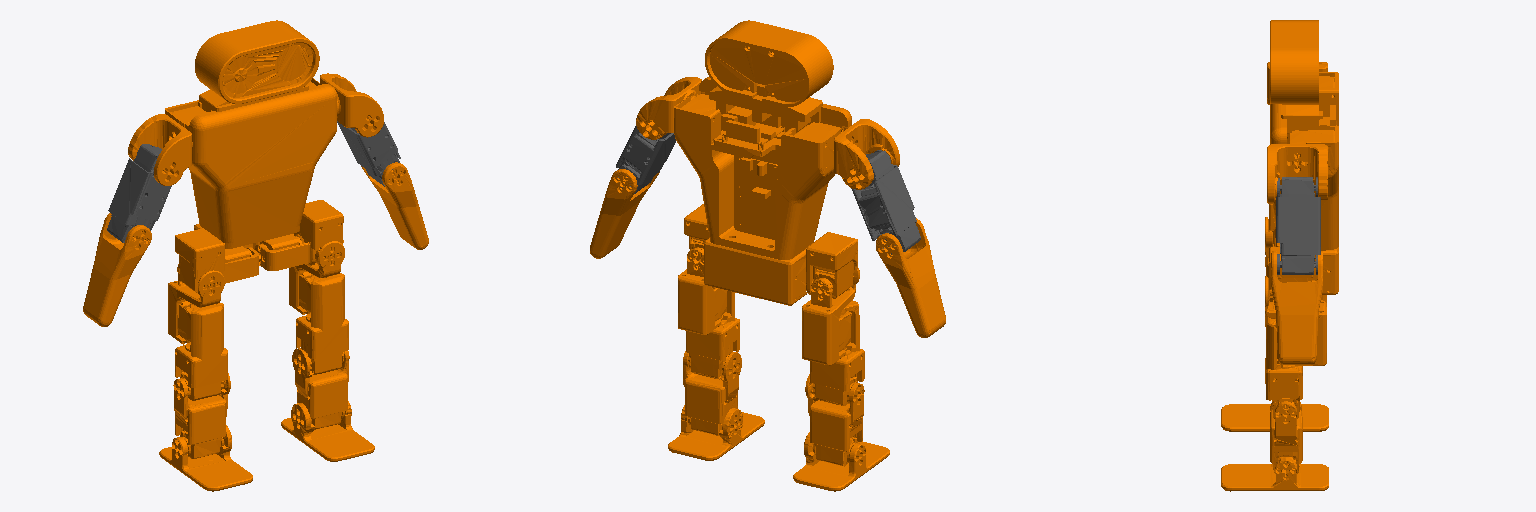
The robot description file, URDF, robot "opus":
<robot name="opus">
  <link name="base">
    <inertial>
      <origin rpy="0 0 0" xyz="0 0 0" />
      <mass value="0.001" />
      <inertia ixx="0.0001" ixy="0" ixz="0" iyy="0.0001" iyz="0" izz="0.0001" />
    </inertial>
  </link>
  <joint name="floating_base" type="fixed">
    <origin rpy="0 0 0" xyz="0 0 0" />
    <parent link="base" />
    <child link="Torso" />
  </joint>
  <link name="Torso">
    <visual>
      <origin xyz="0 0 0" rpy="0 0 0" />
      <geometry>
        <mesh filename="meshes/Torso.stl" />
      </geometry>
      <material name="Torso_material">
        <color rgba="0.97254902 0.52941176 0.0039215686 1" />
      </material>
    </visual>
    <collision>
      <origin xyz="0 0 0" rpy="0 0 0" />
      <geometry>
        <mesh filename="meshes/Torso.stl" />
      </geometry>
    </collision>
    <inertial>
      <mass value="1.5697539312" />
      <inertia ixx="0.0056060930975062925" iyy="0.0073310764831877725" izz="0.002555258648683461" ixy="5.455941982626269e-06" ixz="-8.678303814394845e-05" iyz="0.00034633637897867406" />
      <origin xyz="0.0006379977765356807 0.0037125891477163145 -0.0018039549717621631" rpy="0 0 0" />
    </inertial>
  </link>
  <joint name="right_shoulder_pitch" type="fixed">
    <origin xyz="-0.07813646375169968 -0.0003355559182753147 0.04305328991827533" rpy="1.5707963 2.220446049250313e-16 1.5707963" />
    <parent link="Torso" />
    <child link="shoulder_yaw_right" />
    <limit effort="1" velocity="20" lower="-1.5707963" upper="1.5707963" />
    <axis xyz="0 0 1" />
  </joint>
  <link name="shoulder_yaw_right">
    <visual>
      <origin xyz="0 0 0" rpy="0 0 0" />
      <geometry>
        <mesh filename="meshes/shoulder_yaw_right.stl" />
      </geometry>
      <material name="shoulder_yaw_right_material">
        <color rgba="0.97254902 0.52941176 0.0039215686 1" />
      </material>
    </visual>
    <collision>
      <origin xyz="0 0 0" rpy="0 0 0" />
      <geometry>
        <mesh filename="meshes/shoulder_yaw_right.stl" />
      </geometry>
    </collision>
    <inertial>
      <mass value="0.040362728" />
      <inertia ixx="1.0226821e-05" iyy="2.2303144e-05" izz="2.1988958e-05" ixy="0" ixz="0" iyz="-1.8359103e-06" />
      <origin xyz="-0.00037600968 -0.0036566476 -0.017432914" rpy="0 0 0" />
    </inertial>
  </link>
  <joint name="left_shoulder_pitch" type="fixed">
    <origin xyz="0.0781635406483003 -0.0003355560817246521 0.04305329008172466" rpy="-1.5707963071795865 0.0 1.5707963000000003" />
    <parent link="Torso" />
    <child link="shoulder_yaw_left" />
    <limit effort="1" velocity="20" lower="-1.5707963" upper="1.5707963" />
    <axis xyz="0 0 1" />
  </joint>
  <link name="shoulder_yaw_left">
    <visual>
      <origin xyz="0 0 0" rpy="0 0 0" />
      <geometry>
        <mesh filename="meshes/shoulder_yaw_left.stl" />
      </geometry>
      <material name="shoulder_yaw_left_material">
        <color rgba="0.97254902 0.52941176 0.0039215686 1" />
      </material>
    </visual>
    <collision>
      <origin xyz="0 0 0" rpy="0 0 0" />
      <geometry>
        <mesh filename="meshes/shoulder_yaw_left.stl" />
      </geometry>
    </collision>
    <inertial>
      <mass value="0.040363129" />
      <inertia ixx="1.0227007e-05" iyy="2.2303258e-05" izz="2.1989069e-05" ixy="0" ixz="0" iyz="1.8360421e-06" />
      <origin xyz="-0.00037590896 0.0036565205 -0.017432695" rpy="0 0 0" />
    </inertial>
  </link>
  <joint name="right_shoulder_yaw" type="fixed">
    <origin xyz="-0.018825 -0.01629921 -0.03" rpy="3.1415927 -1.5707963 0" />
    <parent link="shoulder_yaw_right" />
    <child link="right_shoulder_yaw_motor" />
    <limit effort="1" velocity="20" lower="-1.5707963" upper="1.5707963" />
    <axis xyz="0 0 -1" />
  </joint>
  <link name="right_shoulder_yaw_motor">
    <visual>
      <origin xyz="0 0 0" rpy="0 0 0" />
      <geometry>
        <mesh filename="meshes/right_shoulder_yaw_motor.stl" />
      </geometry>
      <material name="right_shoulder_yaw_motor_material">
        <color rgba="0.4 0.4 0.4 1" />
      </material>
    </visual>
    <collision>
      <origin xyz="0 0 0" rpy="0 0 0" />
      <geometry>
        <mesh filename="meshes/right_shoulder_yaw_motor.stl" />
      </geometry>
    </collision>
    <inertial>
      <mass value="0.17145988099999998" />
      <inertia ixx="0.00013262325307405754" iyy="6.0724117002077606e-05" izz="0.00013875614802904093" ixy="4.288149187392555e-05" ixz="1.8301480028463223e-07" iyz="-3.923791483229383e-07" />
      <origin xyz="-0.014954779548987598 0.03207058001285851 0.01810151127113155" rpy="0 0 0" />
    </inertial>
  </link>
  <joint name="right_hip_pitch" type="revolute">
    <origin xyz="-0.04563646320240432 -0.00033555485567163604 -0.09694671547403086" rpy="-1.570796353589792 -4.6410206566704915e-08 1.5707963000000003" />
    <parent link="Torso" />
    <child link="hip_yaw_right" />
    <limit effort="1" velocity="20" lower="-1.5707963" upper="1.5707963" />
    <axis xyz="0 0 -1" />
  </joint>
  <link name="hip_yaw_right">
    <visual>
      <origin xyz="0 0 0" rpy="0 0 0" />
      <geometry>
        <mesh filename="meshes/hip_yaw_right.stl" />
      </geometry>
      <material name="hip_yaw_right_material">
        <color rgba="0.97254902 0.52941176 0.0039215686 1" />
      </material>
    </visual>
    <collision>
      <origin xyz="0 0 0" rpy="0 0 0" />
      <geometry>
        <mesh filename="meshes/hip_yaw_right.stl" />
      </geometry>
    </collision>
    <inertial>
      <mass value="0.10319577099999999" />
      <inertia ixx="4.318575205232385e-05" iyy="3.6230883570948907e-05" izz="3.840805007327843e-05" ixy="-2.9128945888629886e-08" ixz="-6.96211329136451e-08" iyz="3.2487836840400852e-06" />
      <origin xyz="-0.007775213144040673 -0.010188892005385952 0.015272495649744542" rpy="0 0 0" />
    </inertial>
  </link>
  <joint name="left_hip_pitch" type="revolute">
    <origin xyz="0.04566353964830031 -0.0003355550191209561 -0.09694671547403086" rpy="1.5707963535897942 -4.6410206566704915e-08 1.5707963000000003" />
    <parent link="Torso" />
    <child link="hip_yaw_left" />
    <limit effort="1" velocity="20" lower="-1.5707963" upper="1.5707963" />
    <axis xyz="0 0 -1" />
  </joint>
  <link name="hip_yaw_left">
    <visual>
      <origin xyz="0 0 0" rpy="0 0 0" />
      <geometry>
        <mesh filename="meshes/hip_yaw_left.stl" />
      </geometry>
      <material name="hip_yaw_left_material">
        <color rgba="0.97254902 0.52941176 0.0039215686 1" />
      </material>
    </visual>
    <collision>
      <origin xyz="0 0 0" rpy="0 0 0" />
      <geometry>
        <mesh filename="meshes/hip_yaw_left.stl" />
      </geometry>
    </collision>
    <inertial>
      <mass value="0.103201904" />
      <inertia ixx="4.31868121602293e-05" iyy="3.623346153388101e-05" izz="3.8409711336322e-05" ixy="2.9558133603560806e-08" ixz="-7.066797363081703e-08" iyz="-3.2490435867892277e-06" />
      <origin xyz="-0.007776157110492239 0.010188687432665504 0.015271760814946028" rpy="0 0 0" />
    </inertial>
  </link>
  <joint name="left_shoulder_yaw" type="fixed">
    <origin xyz="-0.018825 0.01629921 -0.03" rpy="3.1415927 1.5707963 0" />
    <parent link="shoulder_yaw_left" />
    <child link="left_shoulder_yaw_motor" />
    <limit effort="1" velocity="20" lower="-1.5707963" upper="1.5707963" />
    <axis xyz="0 0 1" />
  </joint>
  <link name="left_shoulder_yaw_motor">
    <visual>
      <origin xyz="0 0 0" rpy="0 0 0" />
      <geometry>
        <mesh filename="meshes/left_shoulder_yaw_motor.stl" />
      </geometry>
      <material name="left_shoulder_yaw_motor_material">
        <color rgba="0.4 0.4 0.4 1" />
      </material>
    </visual>
    <collision>
      <origin xyz="0 0 0" rpy="0 0 0" />
      <geometry>
        <mesh filename="meshes/left_shoulder_yaw_motor.stl" />
      </geometry>
    </collision>
    <inertial>
      <mass value="0.171459652" />
      <inertia ixx="0.00013262990226591847" iyy="6.071731649741009e-05" izz="0.0001387561460545798" ixy="4.2373954399027645e-05" ixz="1.8300960471168456e-07" iyz="-3.9237987690711426e-07" />
      <origin xyz="0.01495475586438801 -0.03207058301892832 -0.018101540546377845" rpy="0 0 0" />
    </inertial>
  </link>
  <joint name="right_hip_yaw" type="revolute">
    <origin xyz="-0.02550000162875169 0.0025000011415515153 0.019359999918275368" rpy="9.282041333256968e-08 1.5707963000000005 0.0" />
    <parent link="hip_yaw_right" />
    <child link="hip_roll_right" />
    <limit effort="1" velocity="20" lower="-0.087266463" upper="1.5707963" />
    <axis xyz="0 0 1" />
  </joint>
  <link name="hip_roll_right">
    <visual>
      <origin xyz="0 0 0" rpy="0 0 0" />
      <geometry>
        <mesh filename="meshes/hip_roll_right.stl" />
      </geometry>
      <material name="hip_roll_right_material">
        <color rgba="0.97254902 0.52941176 0.0039215686 1" />
      </material>
    </visual>
    <collision>
      <origin xyz="0 0 0" rpy="0 0 0" />
      <geometry>
        <mesh filename="meshes/hip_roll_right.stl" />
      </geometry>
    </collision>
    <inertial>
      <mass value="0.111293388" />
      <inertia ixx="6.57187282381467e-05" iyy="3.611810901444388e-05" izz="4.5395675003437e-05" ixy="8.212582995854536e-08" ixz="-2.2471146072130633e-08" iyz="-3.4518887360620174e-06" />
      <origin xyz="5.2211227247596255e-05 0.04271834544407224 0.027962543113983985" rpy="0 0 0" />
    </inertial>
  </link>
  <joint name="left_hip_yaw" type="revolute">
    <origin xyz="-0.02550000297464769 -0.0025000010000000017 0.01936000008172467" rpy="-3.1415926071795863 -1.5707963 0.0" />
    <parent link="hip_yaw_left" />
    <child link="hip_roll_left" />
    <limit effort="1" velocity="20" lower="-1.5707963" upper="0.087266463" />
    <axis xyz="0 0 1" />
  </joint>
  <link name="hip_roll_left">
    <visual>
      <origin xyz="0 0 0" rpy="0 0 0" />
      <geometry>
        <mesh filename="meshes/hip_roll_left.stl" />
      </geometry>
      <material name="hip_roll_left_material">
        <color rgba="0.97254902 0.52941176 0.0039215686 1" />
      </material>
    </visual>
    <collision>
      <origin xyz="0 0 0" rpy="0 0 0" />
      <geometry>
        <mesh filename="meshes/hip_roll_left.stl" />
      </geometry>
    </collision>
    <inertial>
      <mass value="0.111293526" />
      <inertia ixx="6.571885628721675e-05" iyy="3.6118218228694584e-05" izz="4.539570186252418e-05" ixy="-8.212631041317914e-08" ixz="2.2471679414859696e-08" iyz="-3.4519619781216844e-06" />
      <origin xyz="-5.2212826152564546e-05 0.04271835909112089 0.027962565619545642" rpy="0 0 0" />
    </inertial>
  </link>
  <joint name="right_elbow_yaw" type="fixed">
    <origin xyz="-0.03000311610855749 0.06434189253104221 0.00025000101875458525" rpy="8.847213864293657e-08 -1.9613800805728943e-08 0.4363323099999996" />
    <parent link="right_shoulder_yaw_motor" />
    <child link="Left_Hand" />
    <limit effort="1" velocity="20" lower="-1.2217305" upper="1.2217305" />
    <axis xyz="0 0 1" />
  </joint>
  <link name="Left_Hand">
    <visual>
      <origin xyz="0 0 0" rpy="0 0 0" />
      <geometry>
        <mesh filename="meshes/Left_Hand.stl" />
      </geometry>
      <material name="Left_Hand_material">
        <color rgba="0.97254902 0.52941176 0.0039215686 1" />
      </material>
    </visual>
    <collision>
      <origin xyz="0 0 0" rpy="0 0 0" />
      <geometry>
        <mesh filename="meshes/Left_Hand.stl" />
      </geometry>
    </collision>
    <inertial>
      <mass value="0.075184887" />
      <inertia ixx="5.6585944e-05" iyy="1.4864722e-05" izz="4.710315e-05" ixy="-2.4063655e-06" ixz="0" iyz="0" />
      <origin xyz="0.0011184952 0.046132358 0.018254412" rpy="0 0 0" />
    </inertial>
  </link>
  <joint name="left_elbow_yaw" type="fixed">
    <origin xyz="0.03000311710160605 -0.06434189183411612 -0.0002500013458960012" rpy="-3.141592607179586 -2.220446049250313e-16 0.43633231000000006" />
    <parent link="left_shoulder_yaw_motor" />
    <child link="hand_right" />
    <limit effort="1" velocity="20" lower="-1.2217305" upper="1.2217305" />
    <axis xyz="0 0 1" />
  </joint>
  <link name="hand_right">
    <visual>
      <origin xyz="0 0 0" rpy="0 0 0" />
      <geometry>
        <mesh filename="meshes/hand_right.stl" />
      </geometry>
      <material name="hand_right_material">
        <color rgba="0.97254902 0.52941176 0.0039215686 1" />
      </material>
    </visual>
    <collision>
      <origin xyz="0 0 0" rpy="0 0 0" />
      <geometry>
        <mesh filename="meshes/hand_right.stl" />
      </geometry>
    </collision>
    <inertial>
      <mass value="0.075183656" />
      <inertia ixx="5.6585045e-05" iyy="1.4864063e-05" izz="4.7102936e-05" ixy="2.4062028e-06" ixz="0" iyz="0" />
      <origin xyz="-0.0011185716 0.046132566 0.018254616" rpy="0 0 0" />
    </inertial>
  </link>
  <joint name="right_hip_roll" type="revolute">
    <origin xyz="0.0 0.06776001387753285 0.015000000939161373" rpy="1.5707963999999996 0.0 0.0" />
    <parent link="hip_roll_right" />
    <child link="knee_pitch_right" />
    <limit effort="1" velocity="20" lower="-0.78539816" upper="0.78539816" />
    <axis xyz="0 0 1" />
  </joint>
  <link name="knee_pitch_right">
    <visual>
      <origin xyz="0 0 0" rpy="0 0 0" />
      <geometry>
        <mesh filename="meshes/knee_pitch_right.stl" />
      </geometry>
      <material name="knee_pitch_right_material">
        <color rgba="0.97254902 0.52941176 0.0039215686 1" />
      </material>
    </visual>
    <collision>
      <origin xyz="0 0 0" rpy="0 0 0" />
      <geometry>
        <mesh filename="meshes/knee_pitch_right.stl" />
      </geometry>
    </collision>
    <inertial>
      <mass value="0.11061241299999999" />
      <inertia ixx="6.256455107906355e-05" iyy="6.848300154382249e-05" izz="2.7272974458875817e-05" ixy="-1.7202857813824897e-07" ixz="6.756595730316172e-07" iyz="6.994109024317401e-06" />
      <origin xyz="0.0007189519537218518 -0.0023746643916922137 -0.021913106490424647" rpy="0 0 0" />
    </inertial>
  </link>
  <joint name="left_hip_roll" type="revolute">
    <origin xyz="0.0 0.06776001212246713 0.014999999060838654" rpy="1.5707963 0.0 0.0" />
    <parent link="hip_roll_left" />
    <child link="knee_pitch_right_2" />
    <limit effort="1" velocity="20" lower="-0.78539816" upper="0.78539816" />
    <axis xyz="0 0 1" />
  </joint>
  <link name="knee_pitch_right_2">
    <visual>
      <origin xyz="0 0 0" rpy="0 0 0" />
      <geometry>
        <mesh filename="meshes/knee_pitch_right_2.stl" />
      </geometry>
      <material name="knee_pitch_right_material_2">
        <color rgba="0.97254902 0.52941176 0.0039215686 1" />
      </material>
    </visual>
    <collision>
      <origin xyz="0 0 0" rpy="0 0 0" />
      <geometry>
        <mesh filename="meshes/knee_pitch_right_2.stl" />
      </geometry>
    </collision>
    <inertial>
      <mass value="0.11061241299999999" />
      <inertia ixx="6.811358369755594e-05" iyy="7.403582703586009e-05" izz="2.7276767279426143e-05" ixy="1.8563071717604188e-07" ixz="-8.248656959451613e-07" iyz="7.656982124567568e-06" />
      <origin xyz="-0.0006438206184322414 -0.0023746644421732206 -0.024438821233669406" rpy="0 0 0" />
    </inertial>
  </link>
  <joint name="right_knee_pitch" type="revolute">
    <origin xyz="0.01882501239711481 -9.39161338975314e-10 -0.04221000153916135" rpy="-1.5707963 0.0 1.5707963" />
    <parent link="knee_pitch_right" />
    <child link="ankle_pitch_right" />
    <limit effort="1" velocity="20" lower="-1.0471976" upper="1.0471976" />
    <axis xyz="0 0 1" />
  </joint>
  <link name="ankle_pitch_right">
    <visual>
      <origin xyz="0 0 0" rpy="0 0 0" />
      <geometry>
        <mesh filename="meshes/ankle_pitch_right.stl" />
      </geometry>
      <material name="ankle_pitch_right_material">
        <color rgba="0.97254902 0.52941176 0.0039215686 1" />
      </material>
    </visual>
    <collision>
      <origin xyz="0 0 0" rpy="0 0 0" />
      <geometry>
        <mesh filename="meshes/ankle_pitch_right.stl" />
      </geometry>
    </collision>
    <inertial>
      <mass value="0.109625116" />
      <inertia ixx="5.751366326764494e-05" iyy="2.786435696863557e-05" izz="4.601315056057759e-05" ixy="2.781681647488596e-09" ixz="-2.535829062531046e-11" iyz="1.4671593859070324e-07" />
      <origin xyz="-5.290268857115649e-07 0.04092239693101483 0.017864163896558594" rpy="0 0 0" />
    </inertial>
  </link>
  <joint name="left_knee_pitch" type="revolute">
    <origin xyz="-0.018775013847819433 9.3916133203642e-10 -0.04596000193916135" rpy="-1.5707963071795865 0.0 1.5707963000000003" />
    <parent link="knee_pitch_right_2" />
    <child link="ankle_pitch_left" />
    <limit effort="1" velocity="20" lower="-1.0471976" upper="1.0471976" />
    <axis xyz="0 0 -1" />
  </joint>
  <link name="ankle_pitch_left">
    <visual>
      <origin xyz="0 0 0" rpy="0 0 0" />
      <geometry>
        <mesh filename="meshes/ankle_pitch_left.stl" />
      </geometry>
      <material name="ankle_pitch_left_material">
        <color rgba="0.97254902 0.52941176 0.0039215686 1" />
      </material>
    </visual>
    <collision>
      <origin xyz="0 0 0" rpy="0 0 0" />
      <geometry>
        <mesh filename="meshes/ankle_pitch_left.stl" />
      </geometry>
    </collision>
    <inertial>
      <mass value="0.109625115" />
      <inertia ixx="5.332419486756842e-05" iyy="2.7987836076502866e-05" izz="4.170020090666129e-05" ixy="3.0260808403941346e-10" ixz="-3.119719583279756e-11" iyz="1.212609004459173e-06" />
      <origin xyz="2.1519678784208124e-06 0.03837394107872274 -0.01957899760073858" rpy="0 0 0" />
    </inertial>
  </link>
  <joint name="right_ankle_pitch" type="revolute">
    <origin xyz="0.0 0.060220001 -1.3000000000096268e-08" rpy="-3.1415926071795863 0.0 0.0" />
    <parent link="ankle_pitch_right" />
    <child link="foot_right" />
    <limit effort="1" velocity="20" lower="-1.0471976" upper="1.0471976" />
    <axis xyz="0 0 -1" />
  </joint>
  <link name="foot_right">
    <visual>
      <origin xyz="0 0 0" rpy="0 0 0" />
      <geometry>
        <mesh filename="meshes/foot_right.stl" />
      </geometry>
      <material name="foot_right_material">
        <color rgba="0.97254902 0.52941176 0.0039215686 1" />
      </material>
    </visual>
    <collision>
      <origin xyz="0 0 0" rpy="0 0 0" />
      <geometry>
        <mesh filename="meshes/foot_right.stl" />
      </geometry>
    </collision>
    <inertial>
      <mass value="0.040622158" />
      <inertia ixx="1.3644671e-05" iyy="3.7817973e-05" izz="2.8893973e-05" ixy="-1.0762297e-06" ixz="0" iyz="0" />
      <origin xyz="-0.0077822731 -0.016191375 -0.017831949" rpy="0 0 0" />
    </inertial>
  </link>
  <joint name="left_ankle_pitch" type="revolute">
    <origin xyz="1.3458959276929638e-09 0.05646999986991183 -0.0004500036541040392" rpy="-3.1415926071795863 2.220446049250313e-15 -9.282041313340983e-08" />
    <parent link="ankle_pitch_left" />
    <child link="foot_left" />
    <limit effort="1" velocity="20" lower="-1.0471976" upper="1.0471976" />
    <axis xyz="0 0 1" />
  </joint>
  <link name="foot_left">
    <visual>
      <origin xyz="0 0 0" rpy="0 0 0" />
      <geometry>
        <mesh filename="meshes/foot_left.stl" />
      </geometry>
      <material name="foot_left_material">
        <color rgba="0.97254902 0.52941176 0.0039215686 1" />
      </material>
    </visual>
    <collision>
      <origin xyz="0 0 0" rpy="0 0 0" />
      <geometry>
        <mesh filename="meshes/foot_left.stl" />
      </geometry>
    </collision>
    <inertial>
      <mass value="0.04062216" />
      <inertia ixx="1.3644672e-05" iyy="3.7817974e-05" izz="2.8893973e-05" ixy="-1.0762295e-06" ixz="0" iyz="0" />
      <origin xyz="-0.0077822737 -0.016191375 0.01783195" rpy="0 0 0" />
    </inertial>
  </link>
</robot>

--- What the picture shows (computed from the rendered views, not written in the file) ---
The picture shows the robot from 3 angles, left to right: view 1: azimuth 30°, elevation 25°; view 2: azimuth 150°, elevation 25°; view 3: azimuth 270°, elevation 25°; orthographic projection.
Model opus with 18 links and 17 joints (10 revolute, 7 fixed), rooted at base, posed every joint at zero.
Links seen in each view (by area): view 1: Torso, knee_pitch_right_2, Left_Hand, knee_pitch_right, right_shoulder_yaw_motor, ankle_pitch_right, ankle_pitch_left, hip_yaw_right, hip_yaw_left, shoulder_yaw_right, foot_left, foot_right (+5 smaller); view 2: Torso, Left_Hand, right_shoulder_yaw_motor, hip_roll_right, ankle_pitch_right, ankle_pitch_left, shoulder_yaw_right, hip_roll_left, hand_right, knee_pitch_right, foot_left, foot_right (+5 smaller); view 3: Torso, left_shoulder_yaw_motor, hand_right, foot_left, shoulder_yaw_left, foot_right, knee_pitch_right_2, ankle_pitch_left, hip_roll_left.
Link boxes in pixels (left/top/right/bottom): Torso: left=165, top=20, right=336, bottom=262; knee_pitch_right_2: left=296, top=273, right=348, bottom=374; Left_Hand: left=83, top=213, right=151, bottom=326; knee_pitch_right: left=175, top=303, right=227, bottom=400; right_shoulder_yaw_motor: left=107, top=144, right=171, bottom=242; ankle_pitch_right: left=173, top=373, right=230, bottom=458; ankle_pitch_left: left=292, top=348, right=349, bottom=429; hip_yaw_right: left=175, top=228, right=258, bottom=292; hip_yaw_left: left=254, top=200, right=343, bottom=270; shoulder_yaw_right: left=128, top=114, right=192, bottom=185; foot_left: left=281, top=401, right=374, bottom=461; foot_right: left=159, top=425, right=252, bottom=491; Torso: left=674, top=20, right=851, bottom=305; Left_Hand: left=876, top=218, right=945, bottom=337; right_shoulder_yaw_motor: left=851, top=150, right=920, bottom=254; hip_roll_right: left=802, top=268, right=859, bottom=365; ankle_pitch_right: left=805, top=374, right=864, bottom=466; ankle_pitch_left: left=683, top=351, right=741, bottom=435; shoulder_yaw_right: left=834, top=119, right=899, bottom=189; hip_roll_left: left=678, top=248, right=726, bottom=334; hand_right: left=590, top=169, right=659, bottom=258; knee_pitch_right: left=810, top=300, right=864, bottom=405; foot_left: left=668, top=405, right=764, bottom=460; foot_right: left=793, top=432, right=889, bottom=491; Torso: left=1270, top=20, right=1338, bottom=294; left_shoulder_yaw_motor: left=1276, top=177, right=1320, bottom=274; hand_right: left=1271, top=251, right=1322, bottom=364; foot_left: left=1221, top=458, right=1328, bottom=491; shoulder_yaw_left: left=1267, top=144, right=1327, bottom=203; foot_right: left=1221, top=402, right=1328, bottom=431; knee_pitch_right_2: left=1265, top=316, right=1302, bottom=419; ankle_pitch_left: left=1270, top=401, right=1302, bottom=475; hip_roll_left: left=1265, top=276, right=1326, bottom=365.
Bounding box of the posed robot: 0.3568 × 0.1086 × 0.4232 m (x, y, z).
17 mesh visuals loaded from 17 distinct referenced files (17 binary STL).